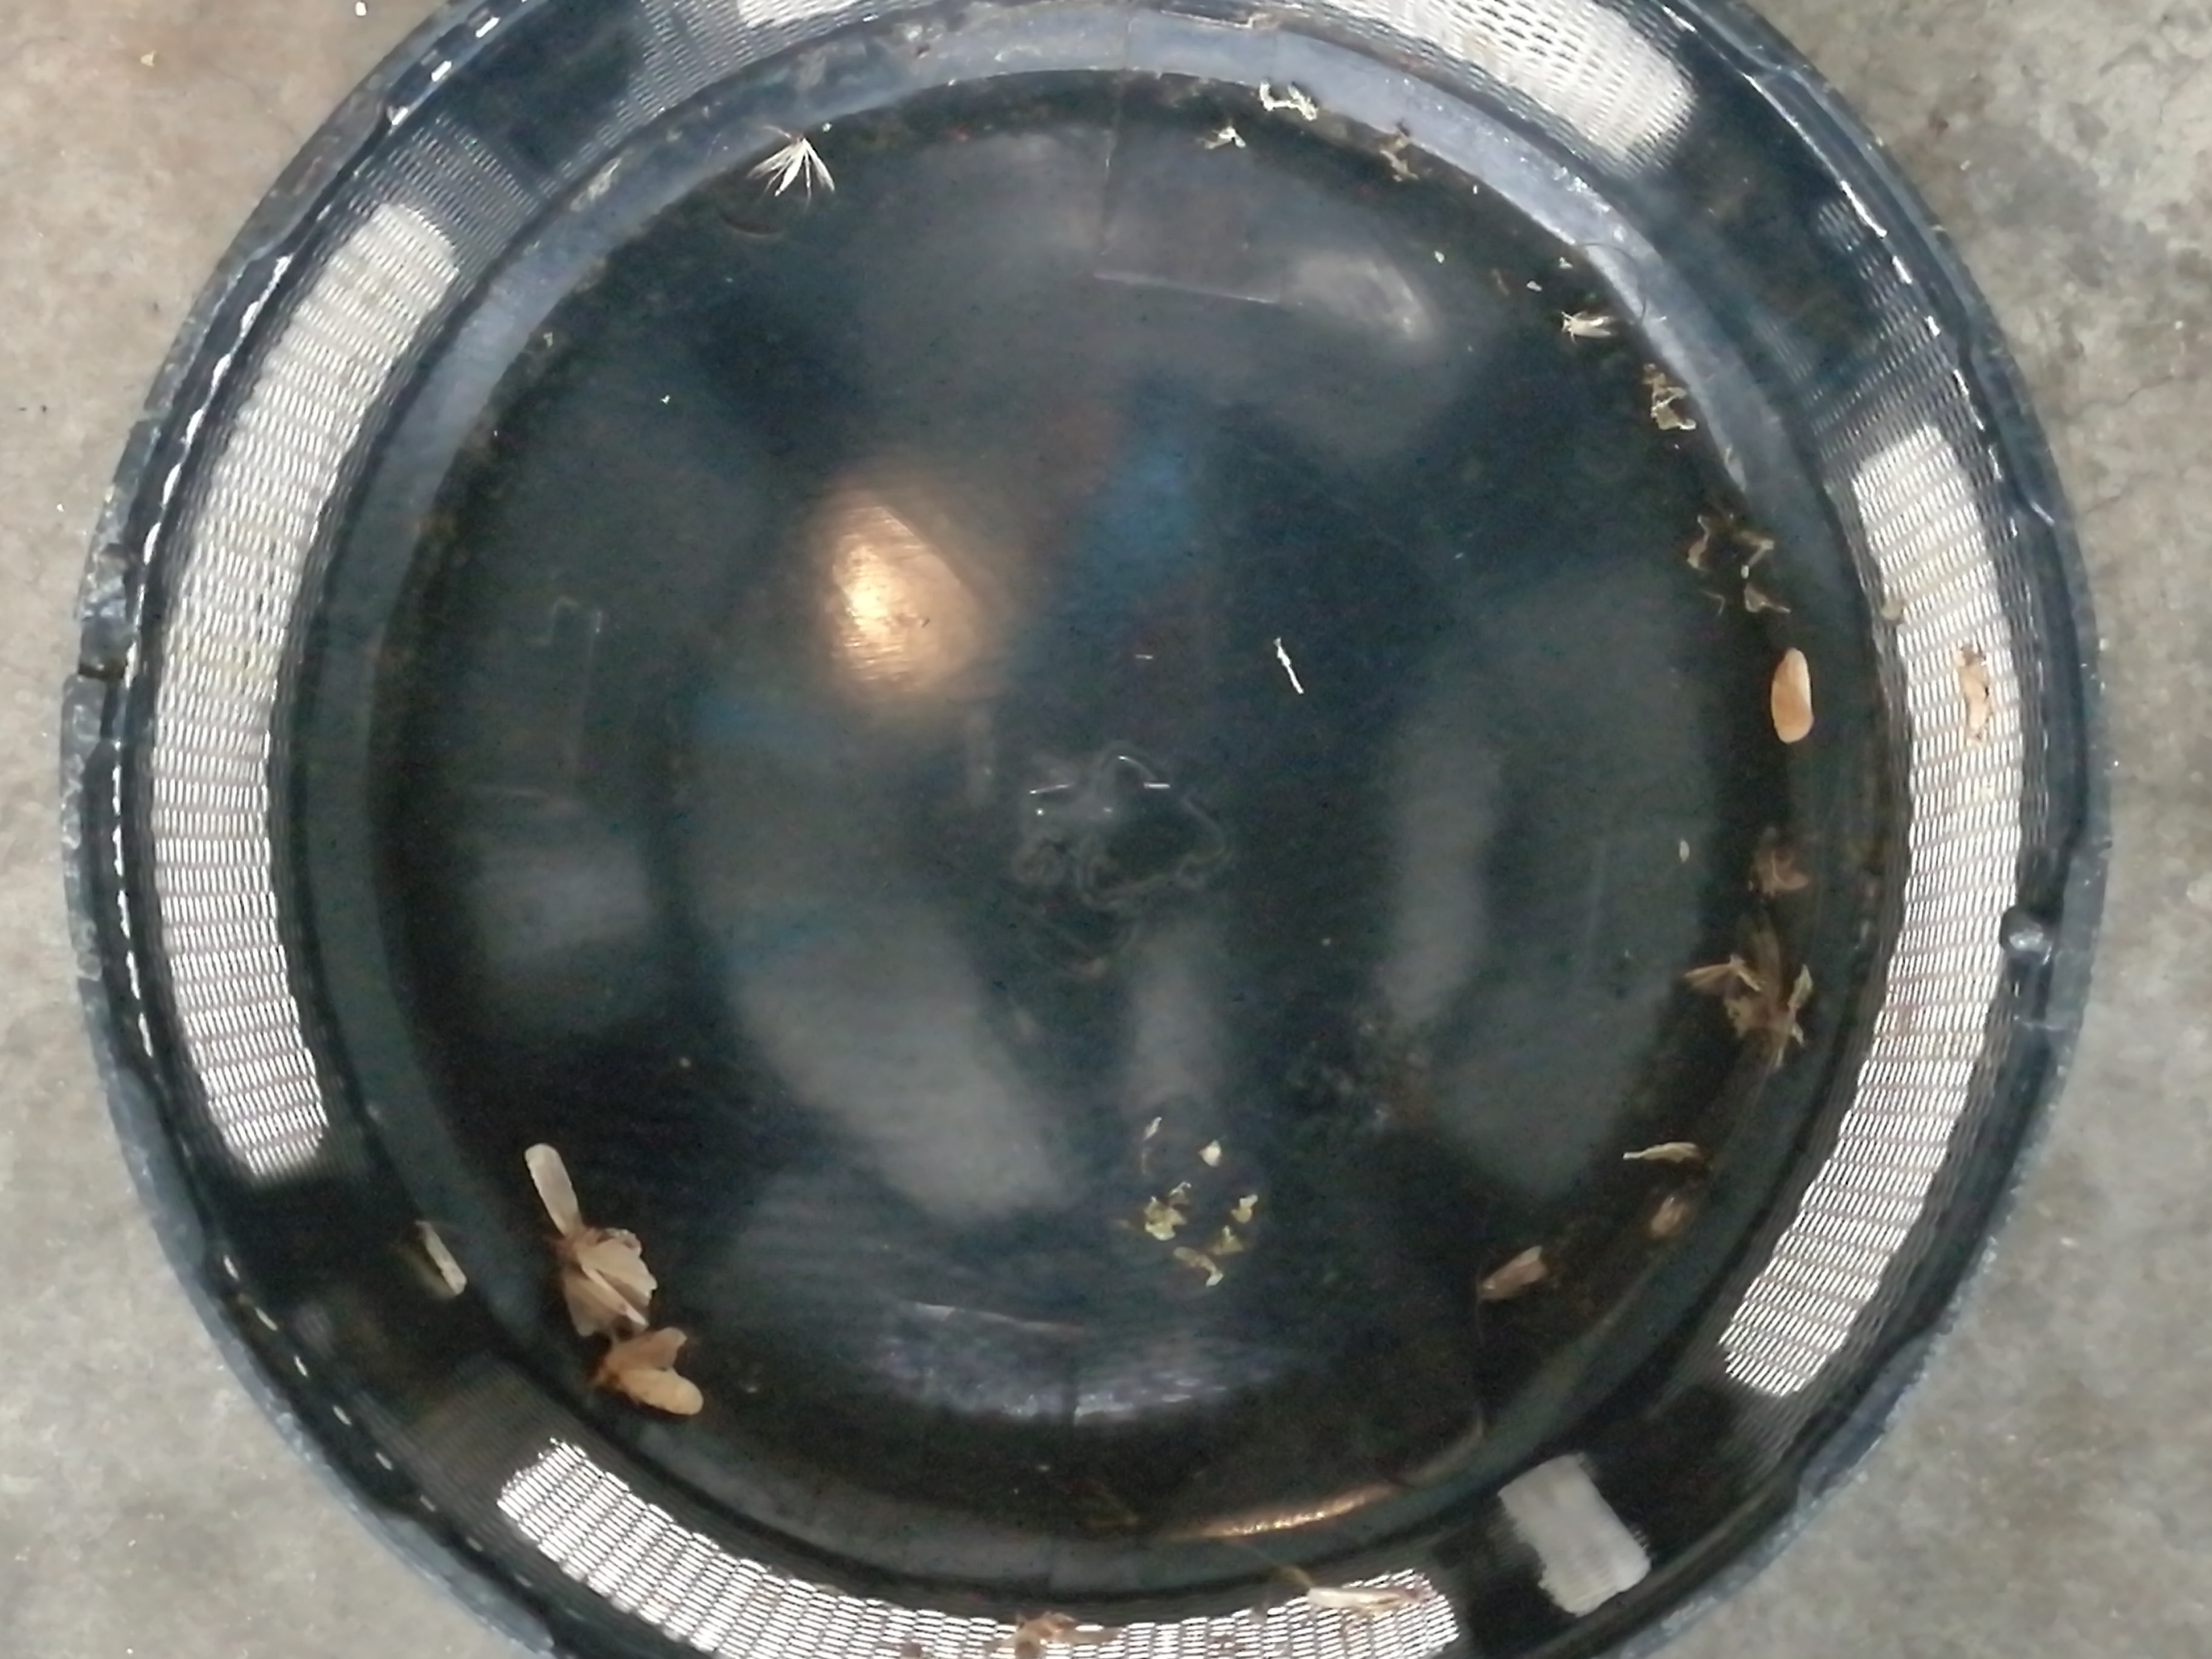mosquito: (413, 1222, 467, 1295), (1482, 1243, 1547, 1302), (1559, 310, 1618, 338)
moth: (529, 1147, 650, 1335), (589, 1331, 700, 1413)
